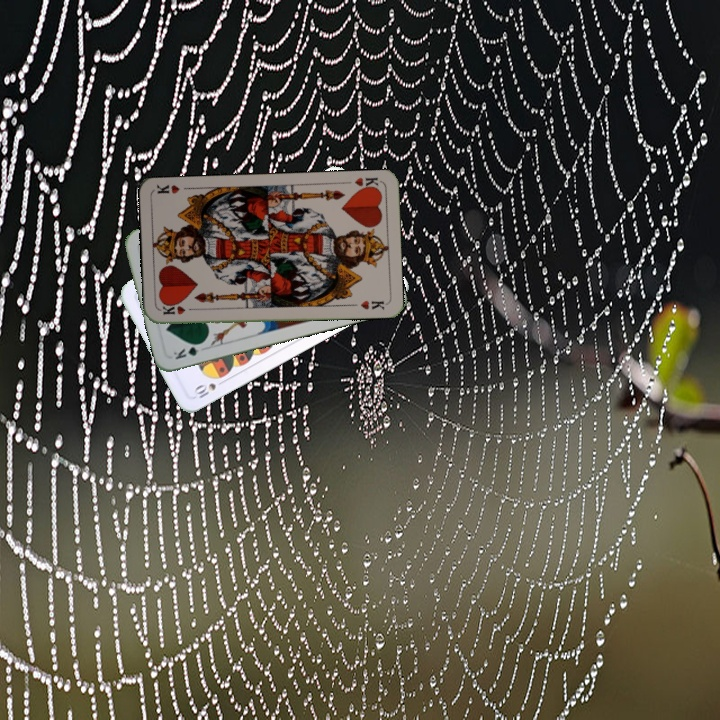GK: (169, 338, 207, 362)
HK: (158, 301, 198, 317), (351, 173, 383, 193)
S10: (189, 372, 228, 401)
